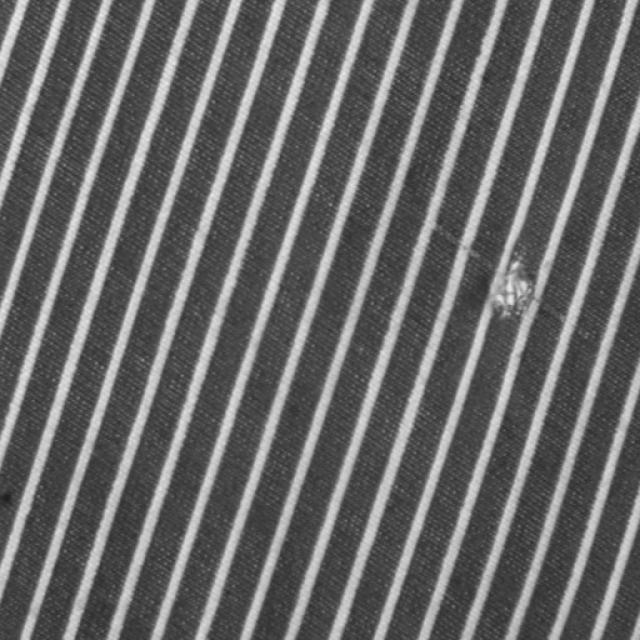Hole-Defect: (431, 219, 578, 334)
